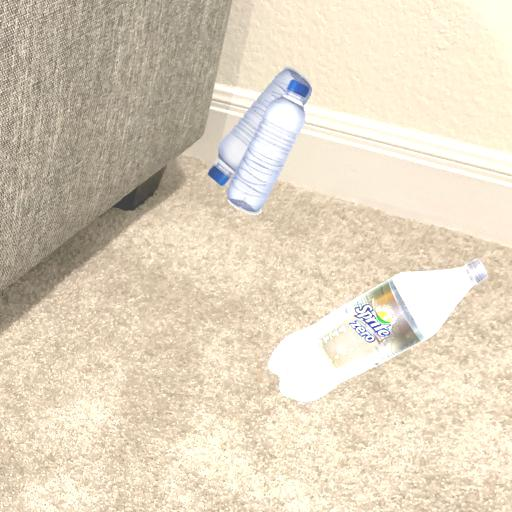bottle: (260, 257, 492, 409), (224, 74, 316, 219), (204, 62, 300, 182)
